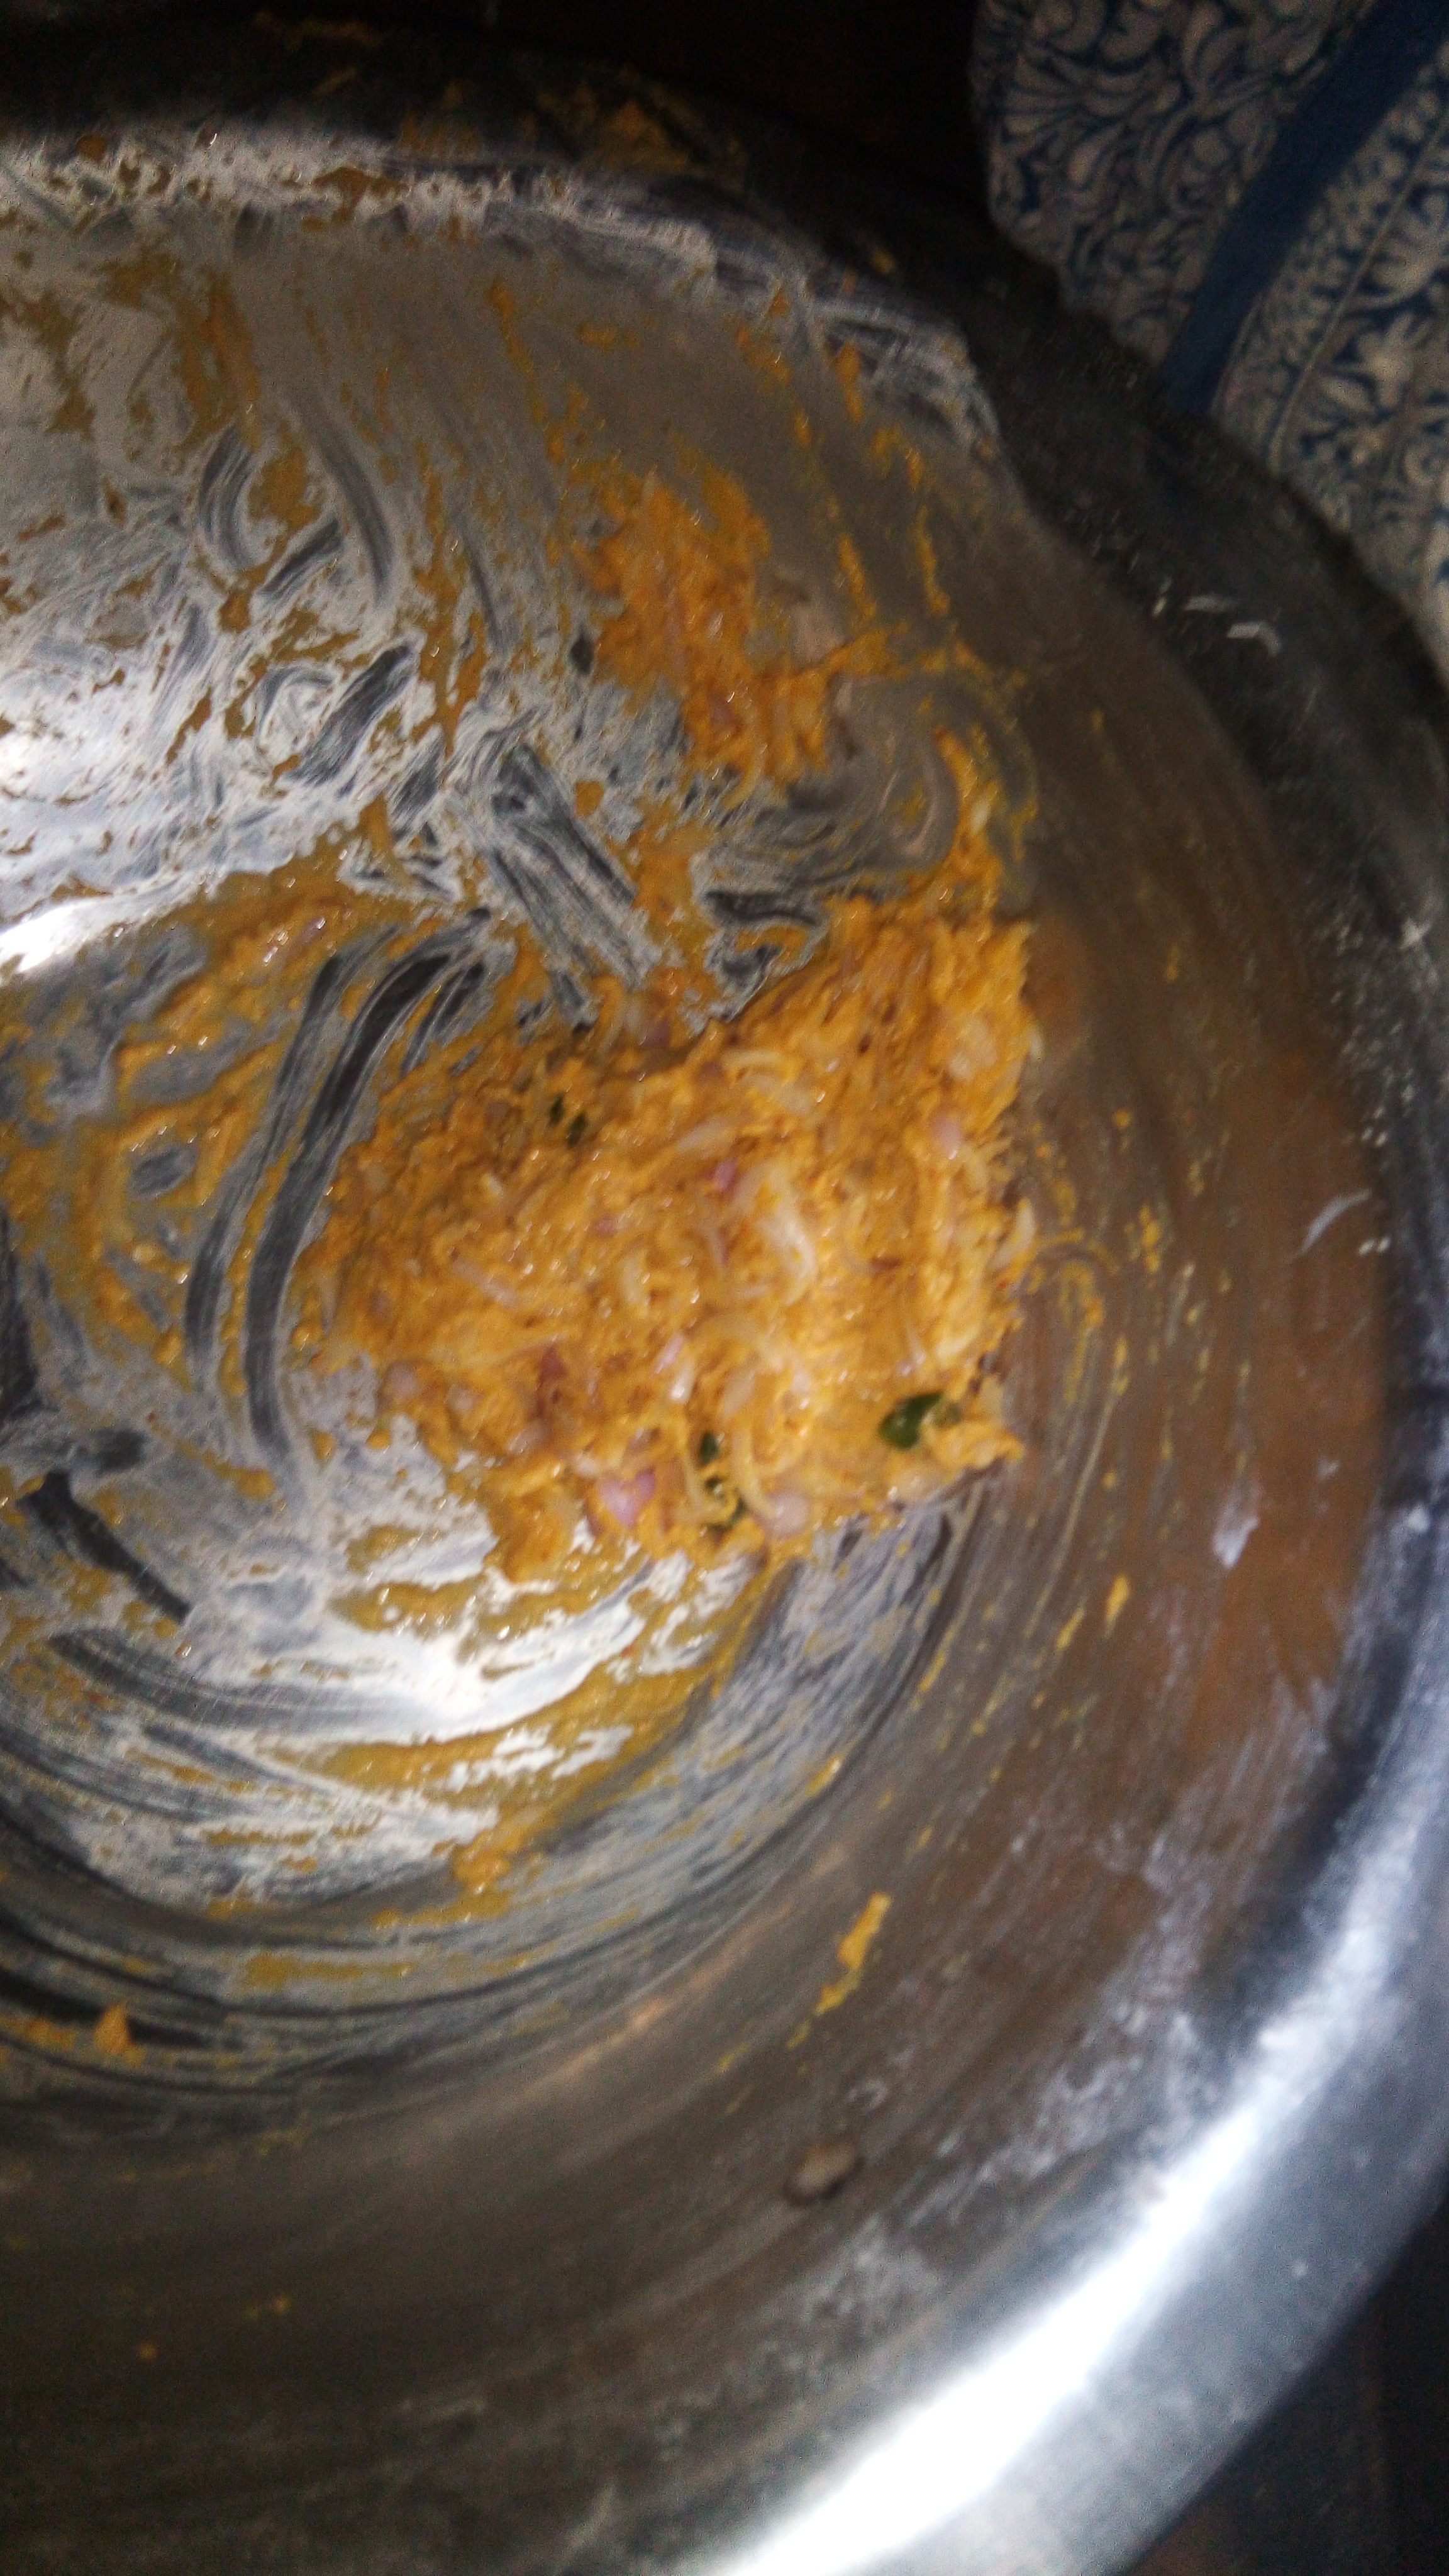food: (294, 851, 1051, 1621)
